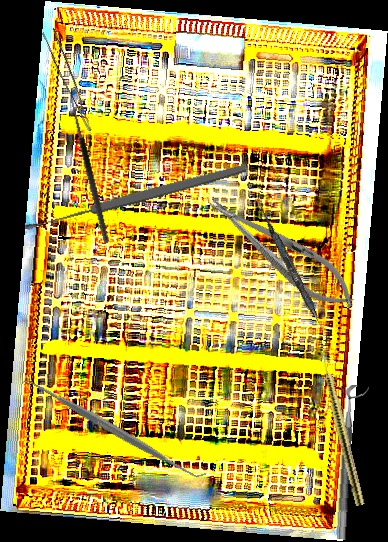Fixation Ring: (335, 384, 370, 541)
Handpiece: (316, 347, 367, 507)
Hook Surgical: (59, 94, 111, 246)
Needle Holder: (198, 182, 367, 322)
Spatula Surgical: (19, 368, 208, 490), (255, 205, 334, 344)
Surgical Spoon: (22, 161, 249, 234)
Tissue Forceps: (39, 27, 103, 132)
